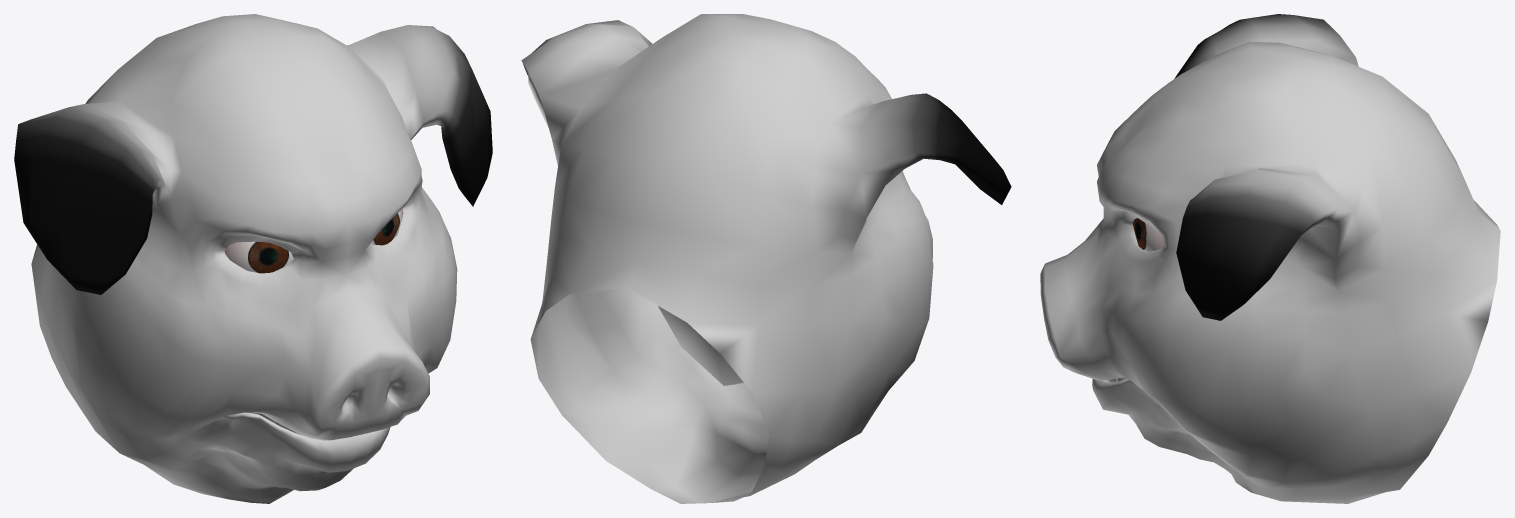
Rendered from Pig_and_MorphTargets.FBX.
The picture shows the model from 3 angles, left to right: view 1: azimuth 30°, elevation 25°; view 2: azimuth 150°, elevation 25°; view 3: azimuth 270°, elevation 25°; orthographic projection. The views are drawn at different scales.
Parts seen in each view (by area): view 1: pig, eyeL; view 2: pig; view 3: pig, eyeR.
Boxes of the visible parts, box(x1,y1,x2,y2) form: pig: box(14, 14, 492, 503); eyeL: box(224, 241, 294, 273); pig: box(521, 14, 1011, 503); pig: box(1040, 14, 1500, 503); eyeR: box(1133, 218, 1164, 251).
Bounding box in the file's own units: 5.99 × 5.66 × 5.4.
